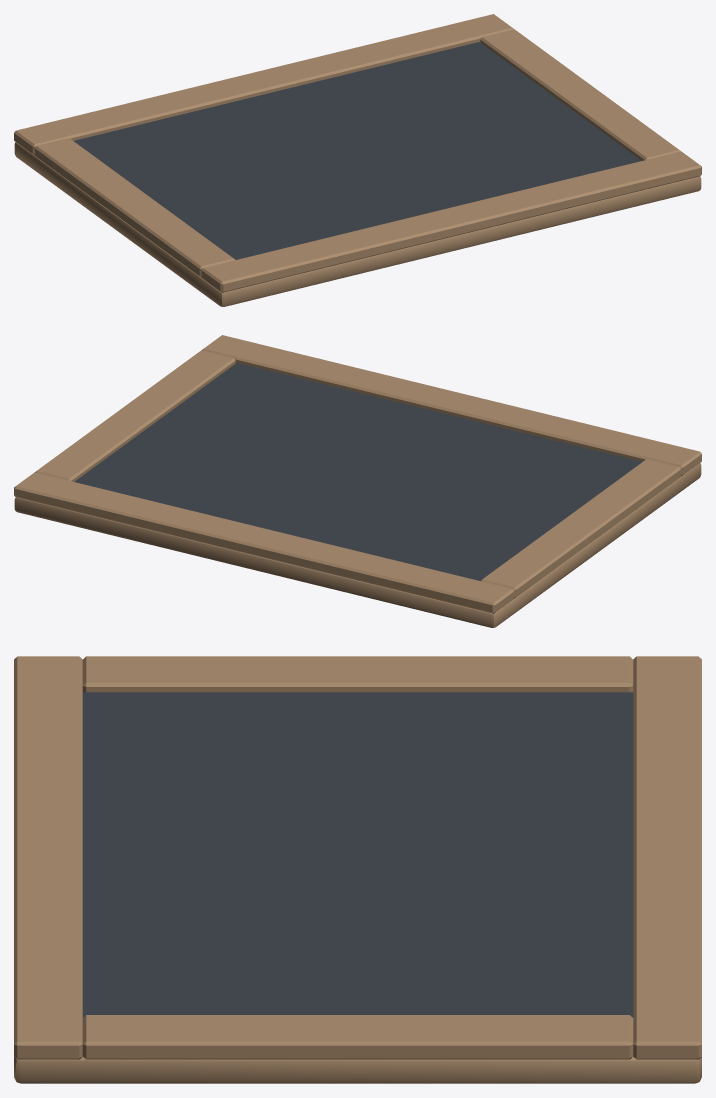
Rendered from miniature.glb.
The picture shows the model from 3 angles, top to bottom: view 1: azimuth 30°, elevation 25°; view 2: azimuth 150°, elevation 25°; view 3: azimuth 270°, elevation 25°; orthographic projection. The views are drawn at different scales.
Parts seen in each view (by area): view 1: Miniature; view 2: Miniature; view 3: Miniature.
Part boxes in pixels (bbox=[...]): Miniature: bbox=[14, 14, 701, 306]; Miniature: bbox=[14, 335, 701, 627]; Miniature: bbox=[14, 656, 701, 1083].
Bounding box in the file's own units: 0.4 × 0.024 × 0.3.
